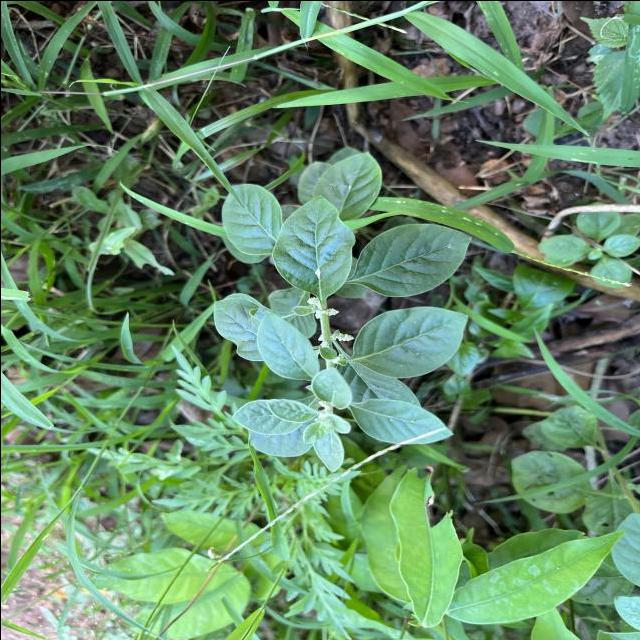Aerva lanata: (268, 192, 356, 304), (349, 220, 474, 298), (349, 303, 469, 380), (218, 180, 284, 258)
